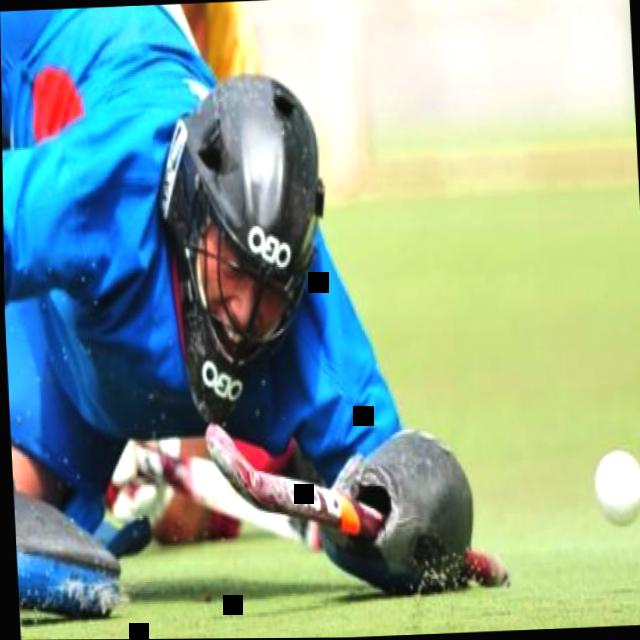Fall-Detected: (0, 0, 416, 604)
